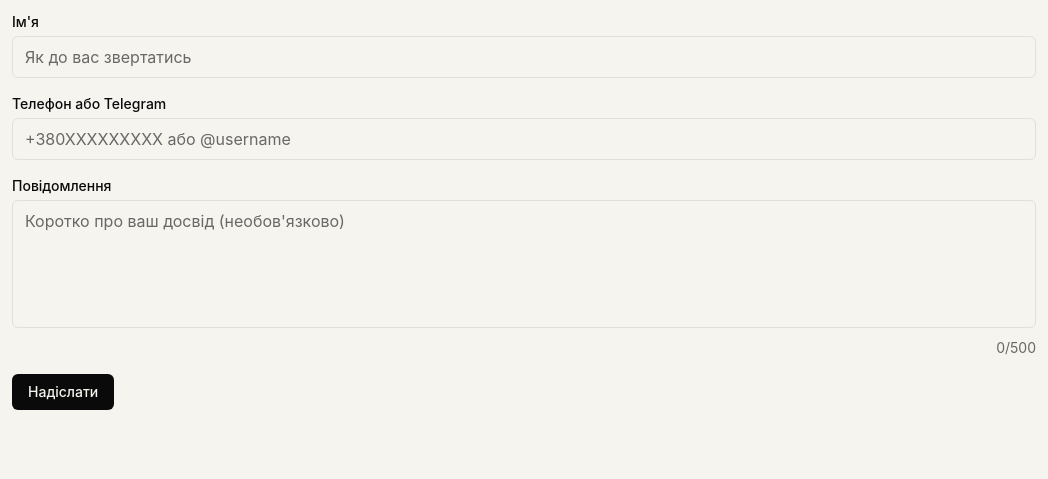
it: ApplicationForm › blocks submit and shows inline errors when invalid
Click the button "Надіслати" at (63, 392), box 12,374 -> 114,410
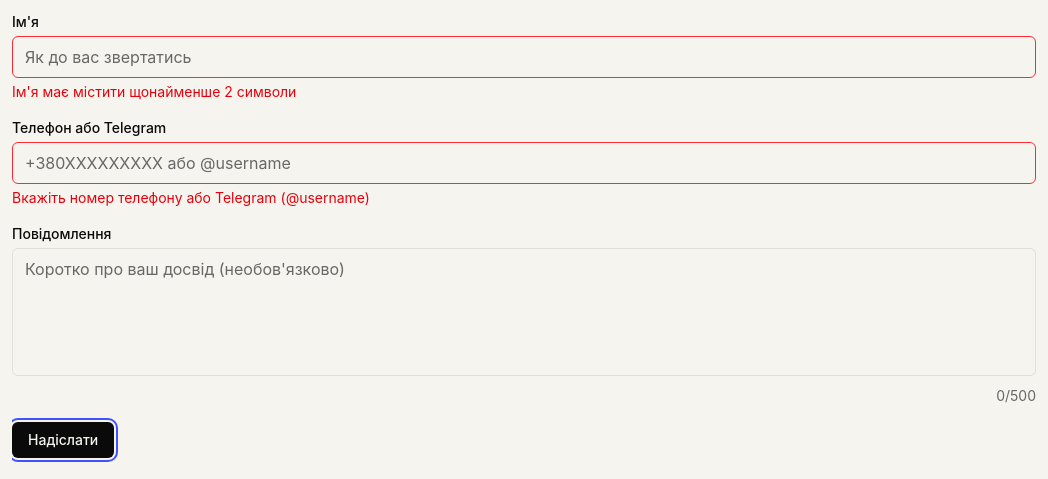
Expected: the text "Ім'я має містити щонайменше 2 символи" is shown, 12,82 -> 296,102
Expected: the text "Вкажіть номер телефону або Telegram (@username)" is shown, 12,188 -> 370,208
